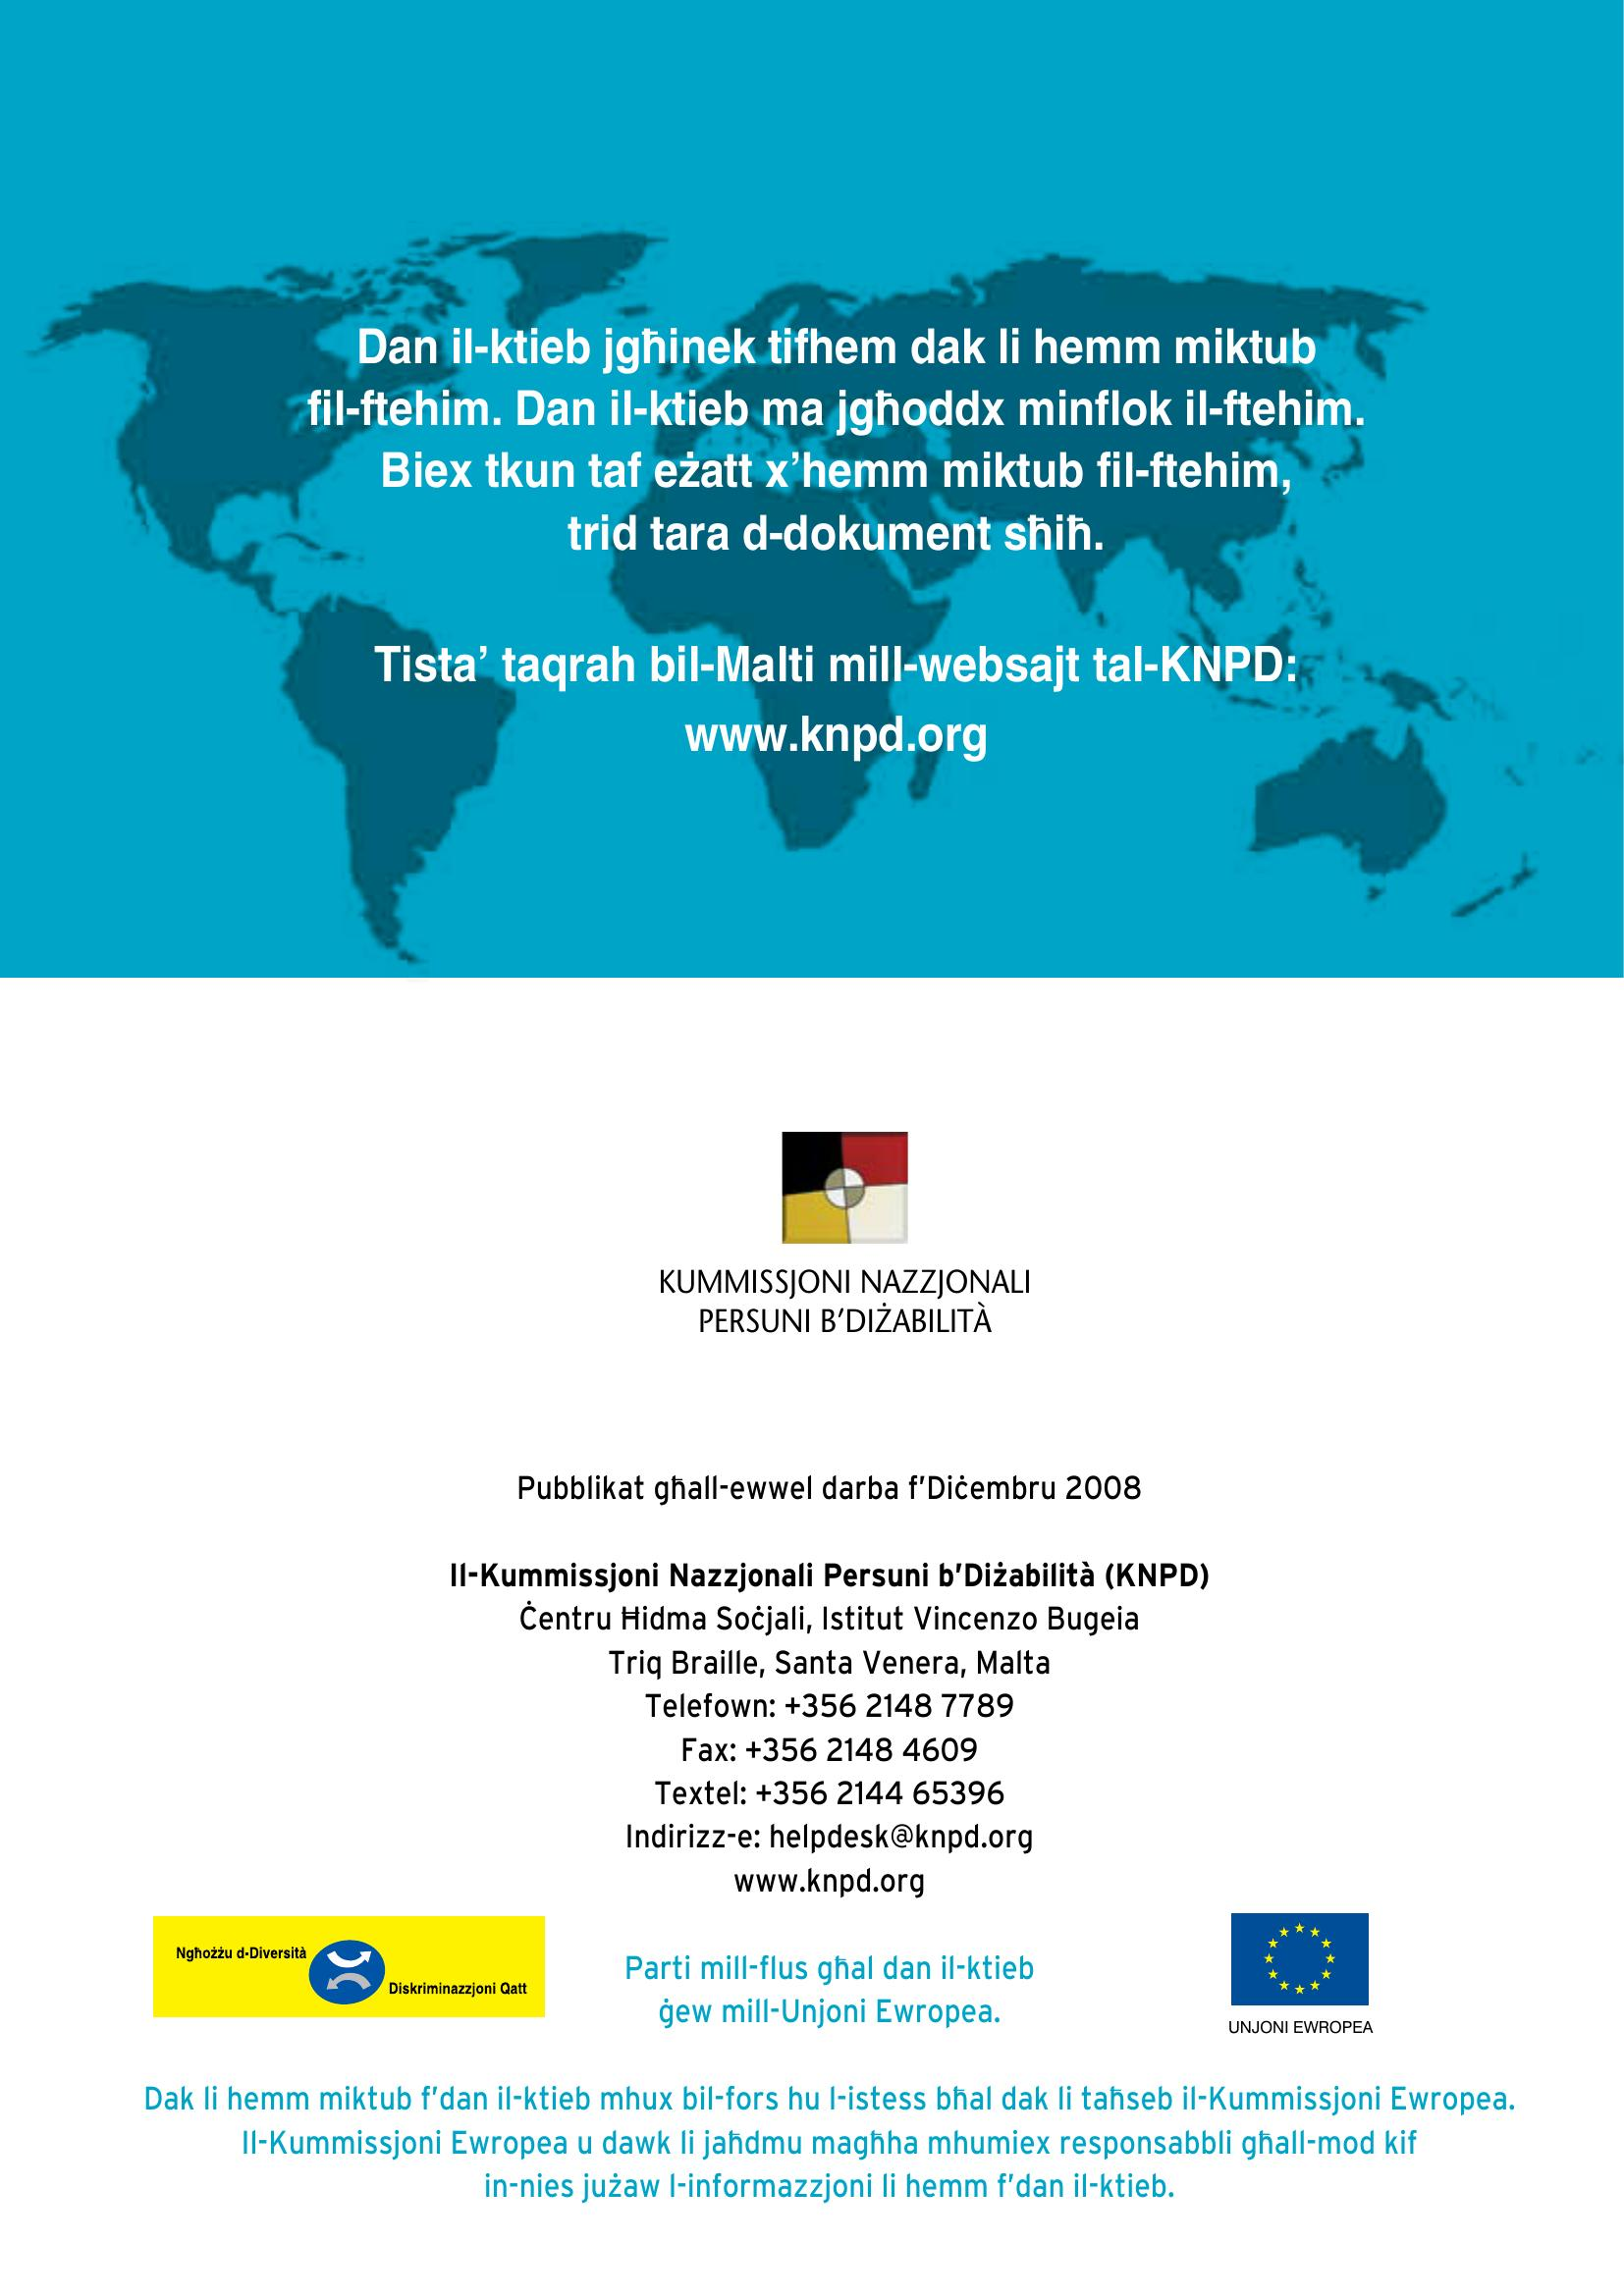text: (276, 278, 1390, 806), (123, 2068, 1538, 2224), (598, 1941, 1062, 2043)
